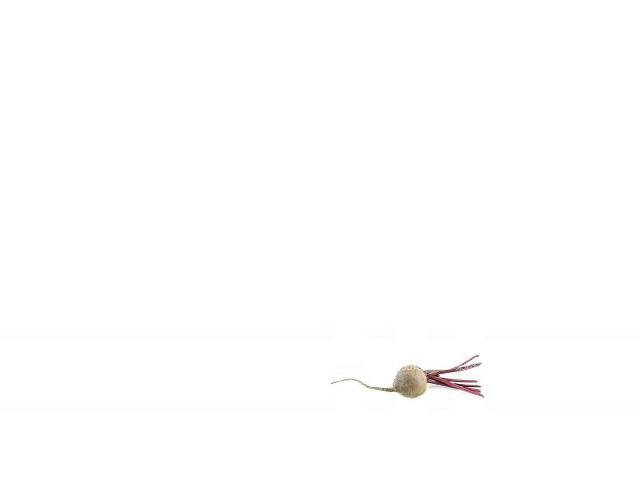beet: (329, 356, 482, 398)
